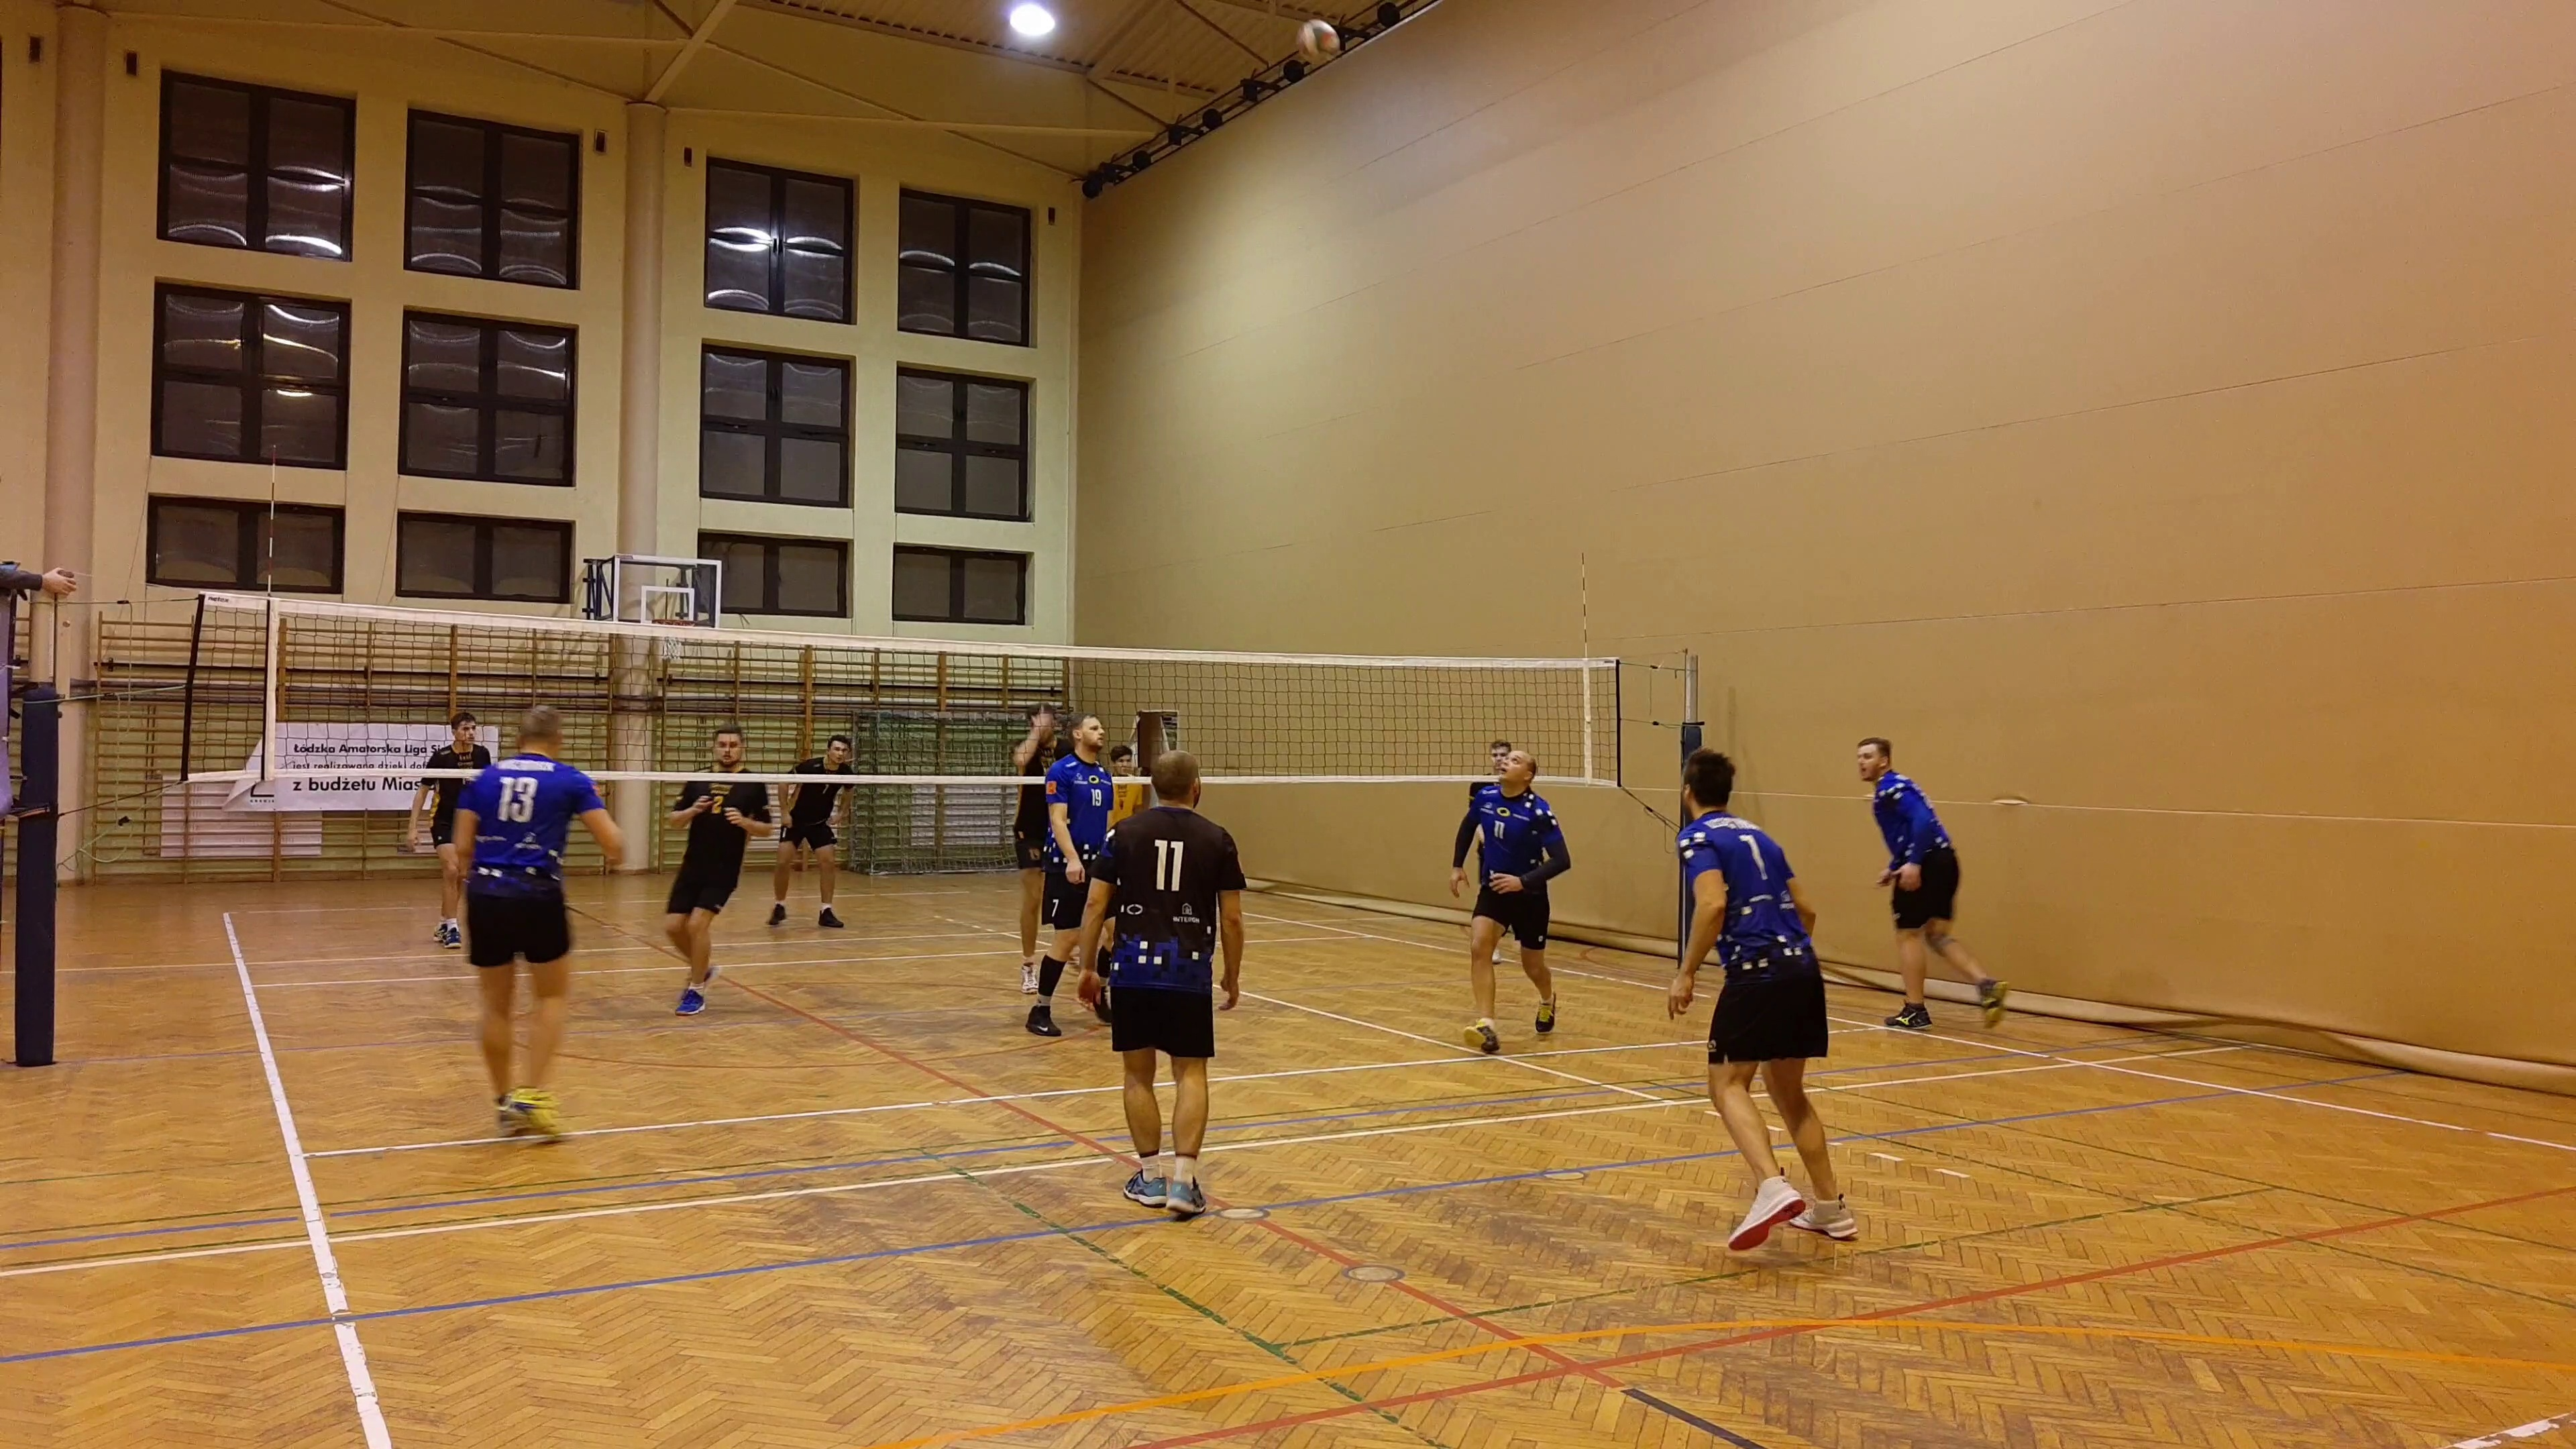ball: (1295, 19, 1339, 64)
